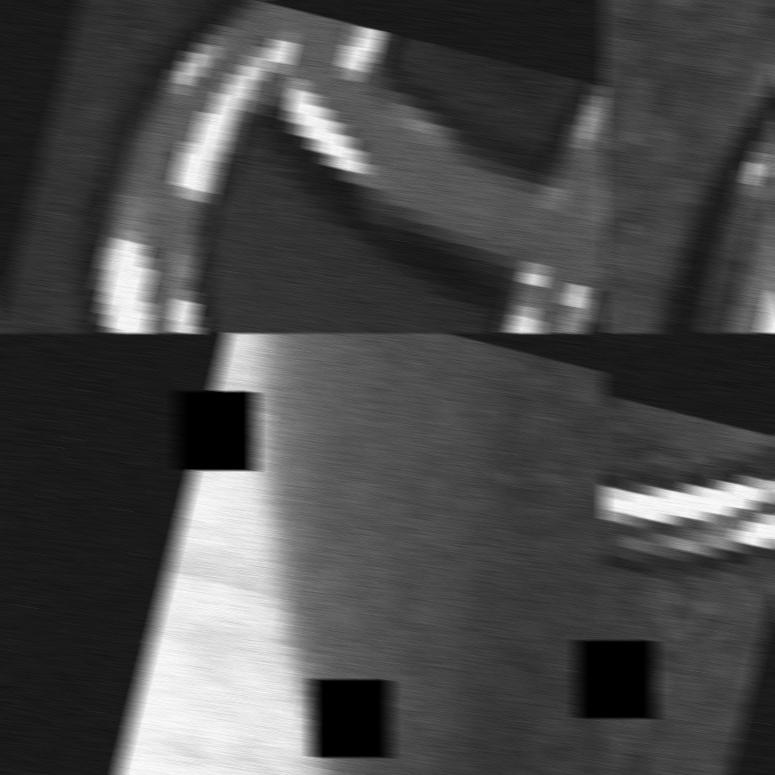AirbagV2: (82, 333, 606, 775), (0, 0, 606, 333), (601, 333, 775, 775), (601, 0, 775, 333)
